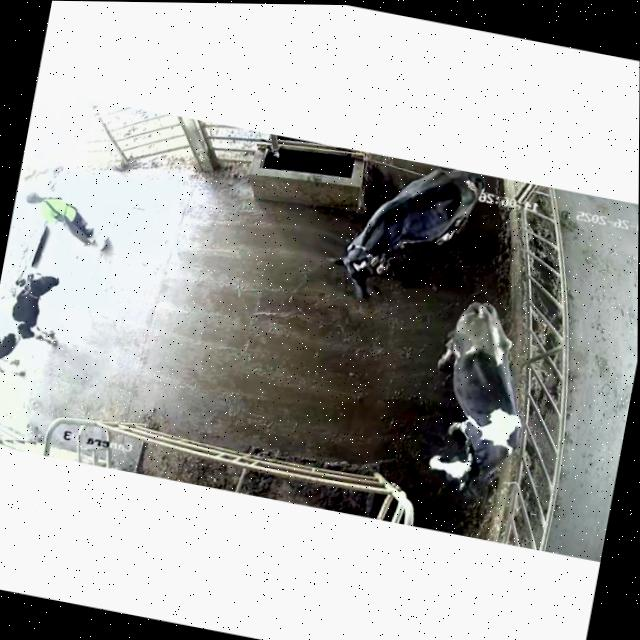stand: (328, 168, 485, 297), (429, 301, 522, 493), (0, 256, 76, 398)
